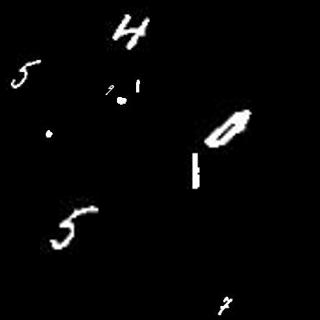dot: (114, 93, 130, 106), (43, 124, 55, 140)
five: (48, 201, 100, 252), (9, 56, 43, 90)
four: (108, 16, 148, 49)
nine: (102, 83, 115, 97)
one: (191, 147, 201, 190), (135, 76, 141, 91)
seven: (213, 295, 234, 317)
zero: (202, 106, 254, 150)
